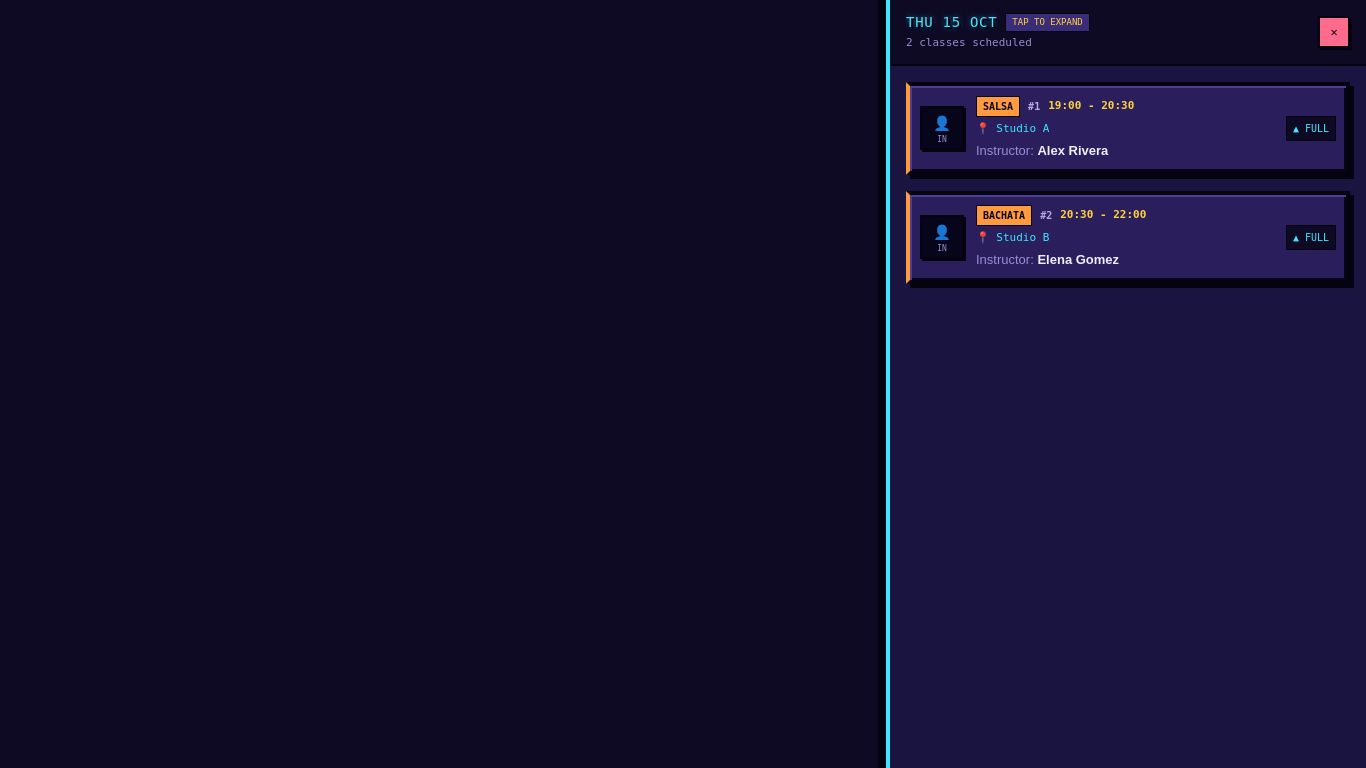
Test: DaySheet (Adaptive Dancer & Admin Calendar Sheet) › expands to full screen when tapping directly on a compact class card
Tap on the first compact class card
Click the element with test id "compact-class-s1". click: (1128, 128)
box: [906, 82, 1350, 174]
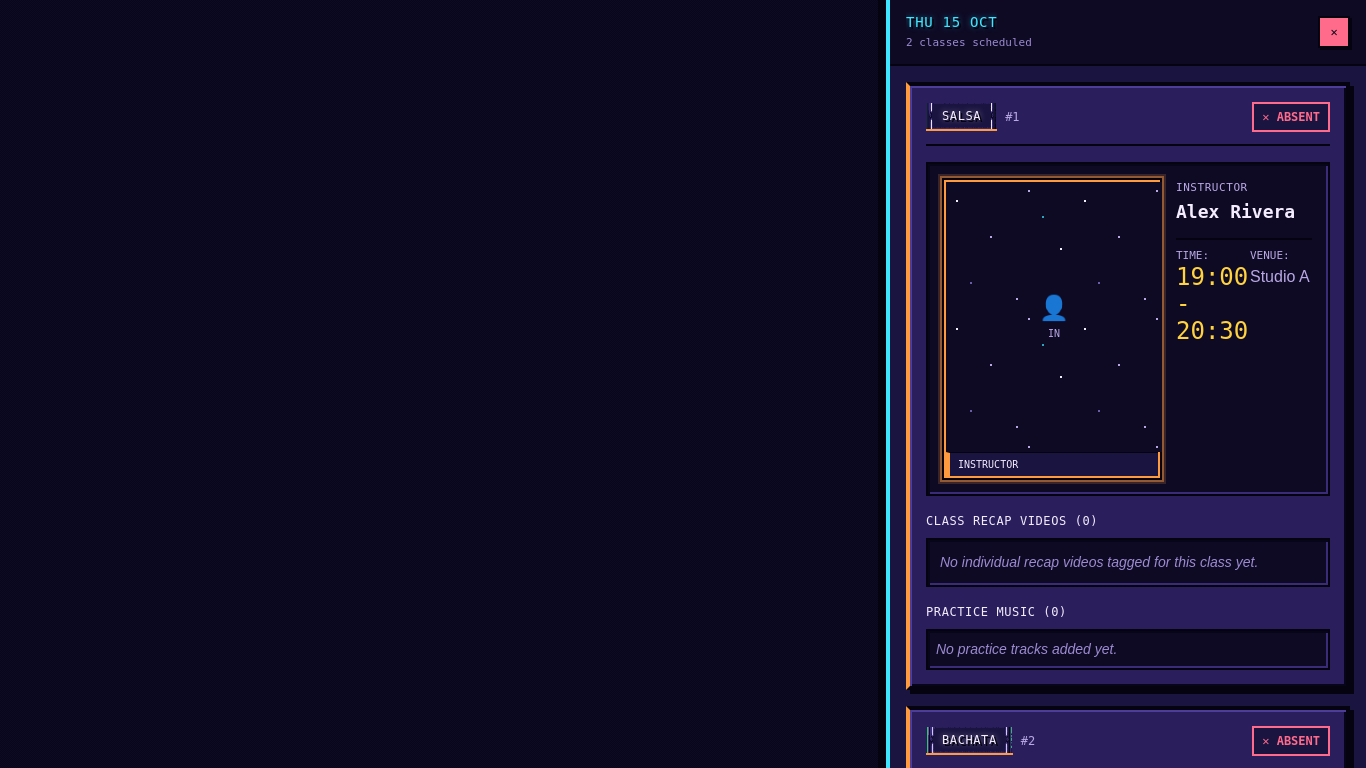
Expected: the element with test id "day-sheet-backdrop" is shown
